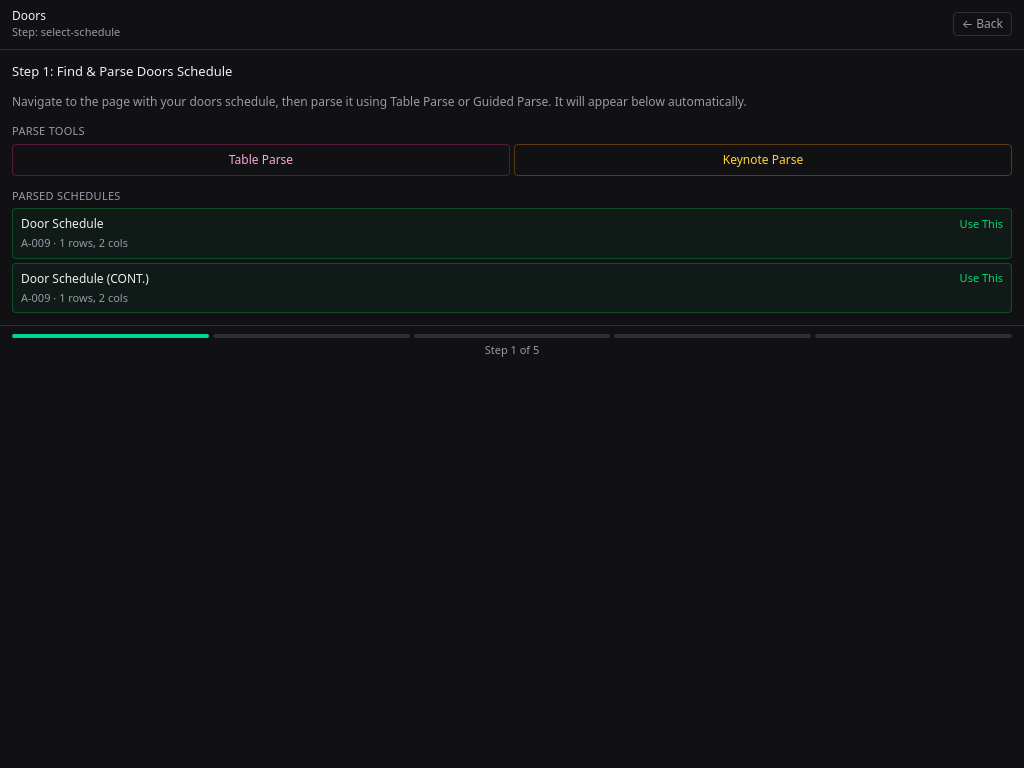
Auto-QTO summary-only schedule identity (K11) › the (CONT.) entry copies its own rows, not the first same-category table's
Click the button "Door Schedule (CONT.) Use This A-009 · 1 rows, 2 cols": click(85, 278) [12,262,1012,313]
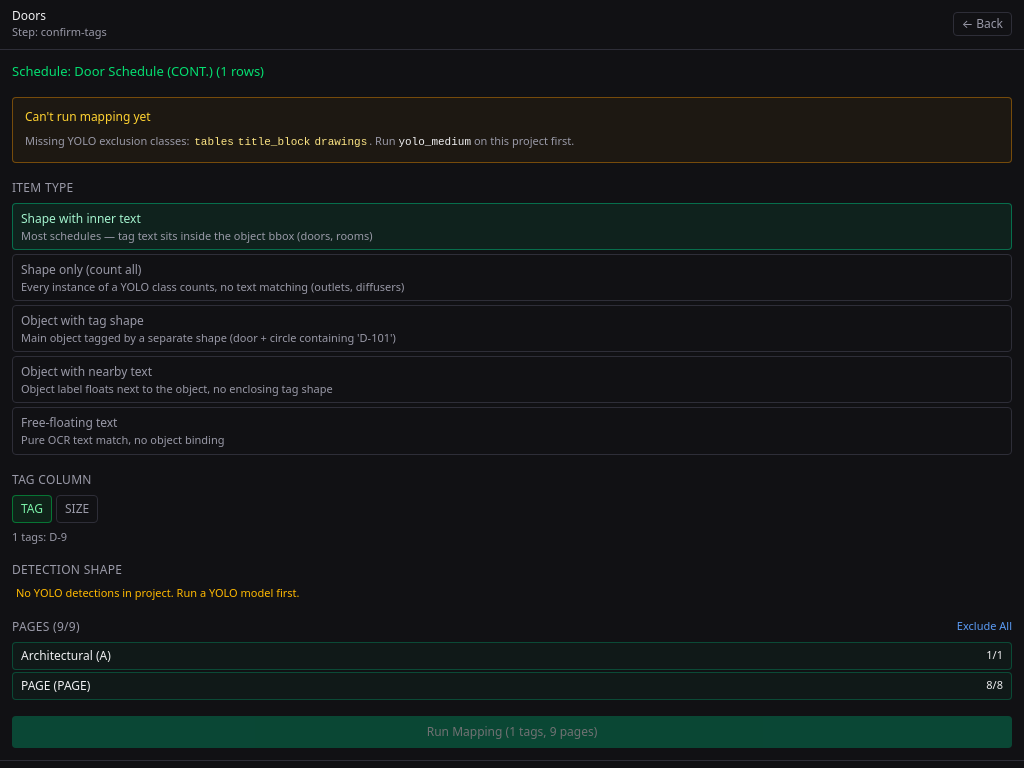
Expected: the text "Step: confirm-tags" is shown, [12,24,107,40]
